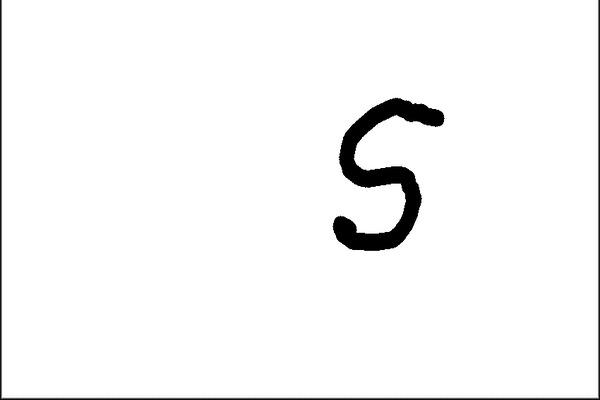S: (322, 86, 448, 261)
